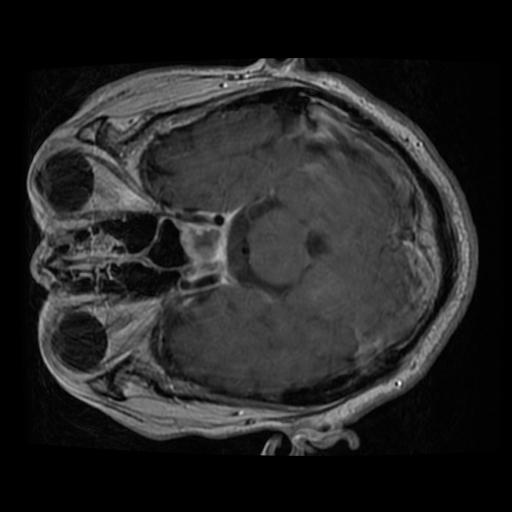pituitary tumour: (181, 221, 224, 272)
